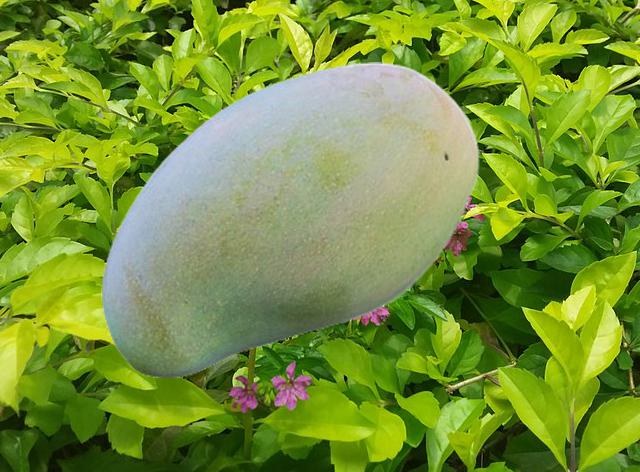green_mango: (101, 62, 479, 376)
